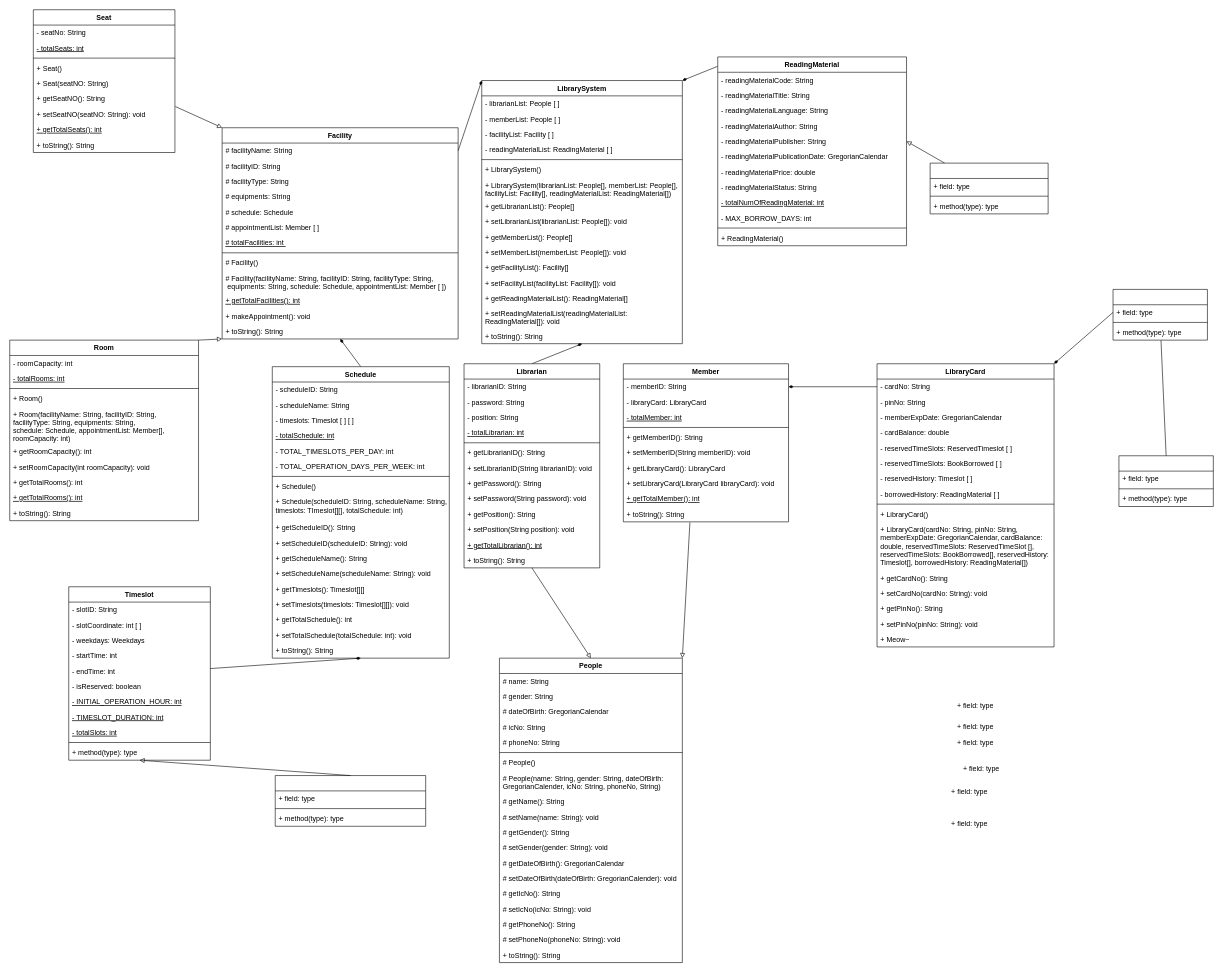
Image size: 1223x972. Some labels were removed from this diagram. Each missing label, with the box of its shape:
BorrowedReadingMaterial: (930, 163, 1048, 214)
Payment: (1118, 455, 1213, 507)
Penalty: (1112, 289, 1207, 340)
ReservedTimeSlot: (275, 775, 426, 826)
